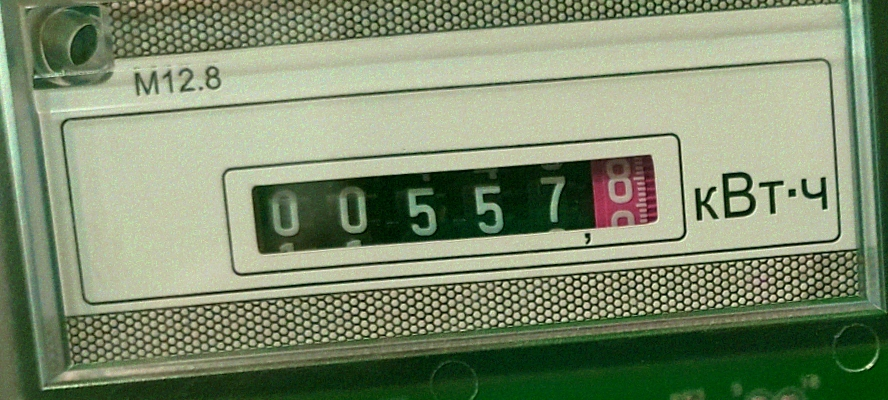0: (264, 183, 305, 242), (333, 181, 371, 237)
5: (467, 176, 511, 238), (401, 181, 441, 241)
7: (533, 169, 571, 227)
8: (603, 155, 636, 207)
screen: (216, 113, 695, 292)
